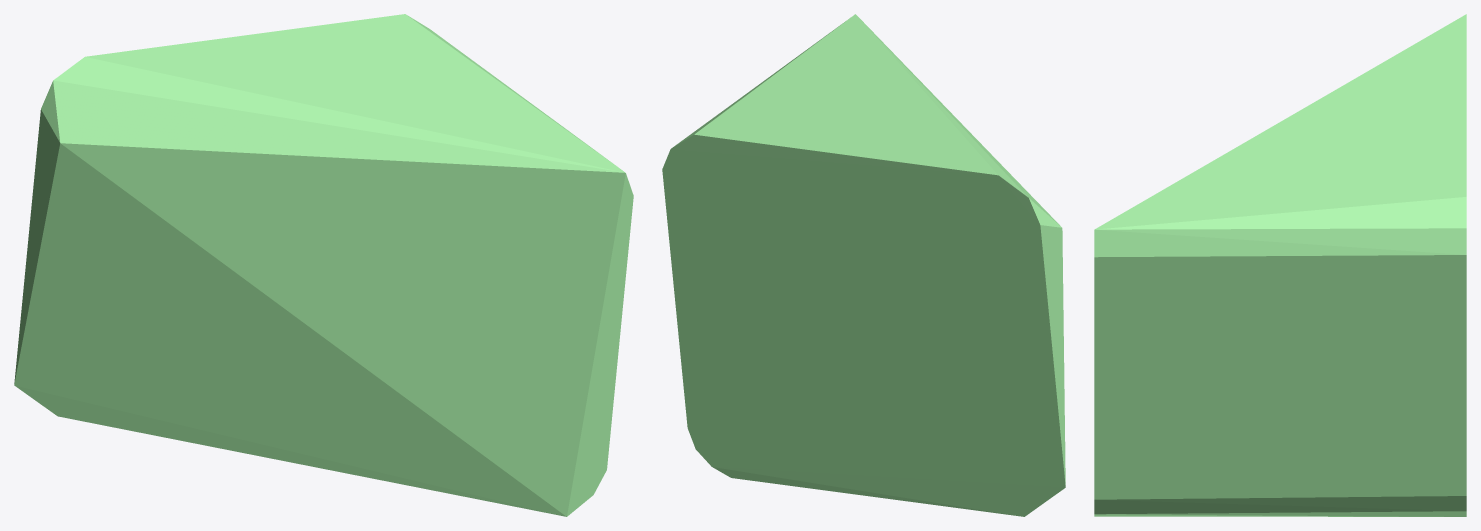
File: UMIRobot_robot_base_coll_18.dae
3 views of the same model, side by side, from view 1: azimuth 30°, elevation 25°; view 2: azimuth 150°, elevation 25°; view 3: azimuth 270°, elevation 25° (orthographic). The views are drawn at different scales.
Visible parts, largest first — view 1: node; view 2: node; view 3: node.
Boxes of the visible parts, <box> form: node: <box>14,14,633,516</box>; node: <box>662,14,1065,516</box>; node: <box>1094,14,1466,516</box>.
Bounding box in the file's own units: 0.069 × 0.0602 × 0.055.
